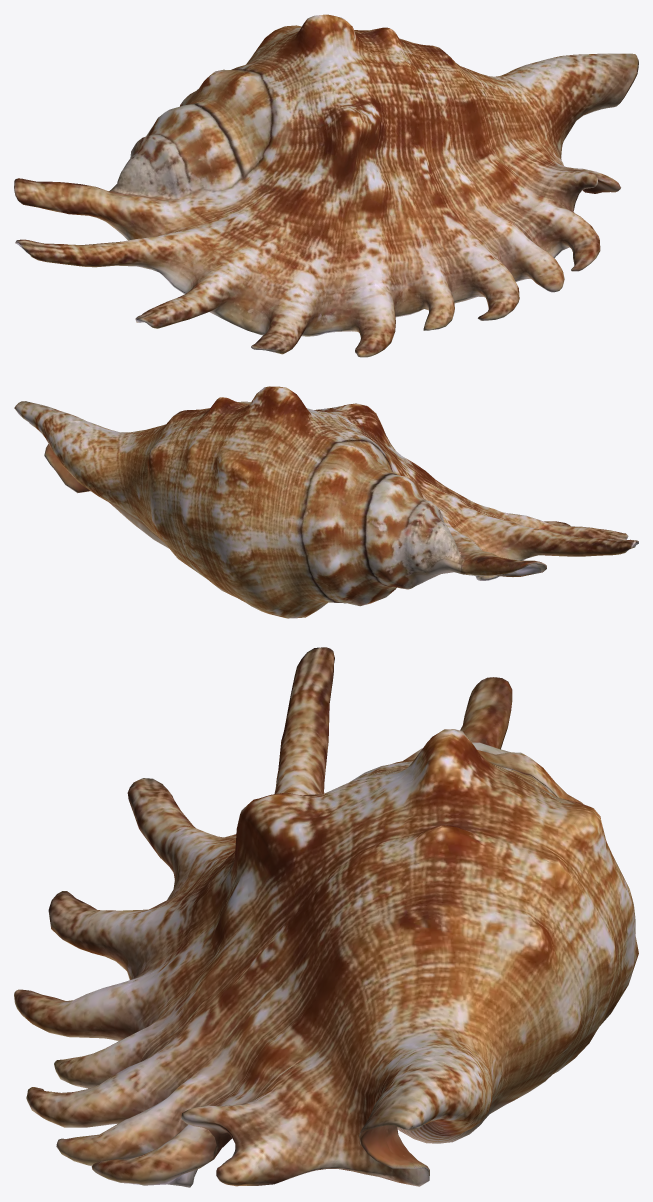
File: lambis_shell.glb
3 renders of one model, top to bottom at view 1: azimuth 30°, elevation 25°; view 2: azimuth 150°, elevation 25°; view 3: azimuth 270°, elevation 25°, orthographic. The views are drawn at different scales.
Visible parts, largest first — view 1: lambis_shell; view 2: lambis_shell; view 3: lambis_shell.
Part boxes in pixels (x1,y1,x2,y2): lambis_shell: (14, 14, 638, 357); lambis_shell: (14, 386, 638, 618); lambis_shell: (14, 647, 638, 1187).
Size of the model in its own units: 0.1395 by 0.0465 by 0.0745.
1 material, 1 textured.
